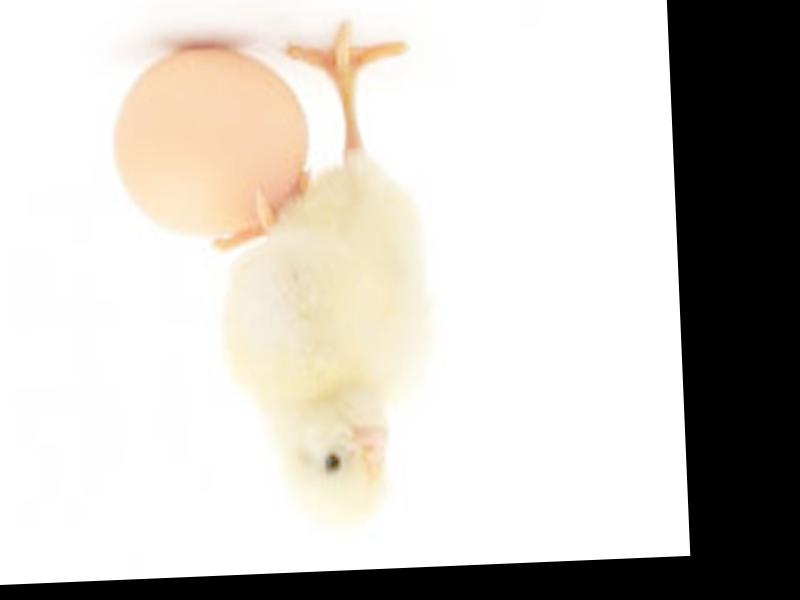Eggs: (107, 44, 316, 249)
